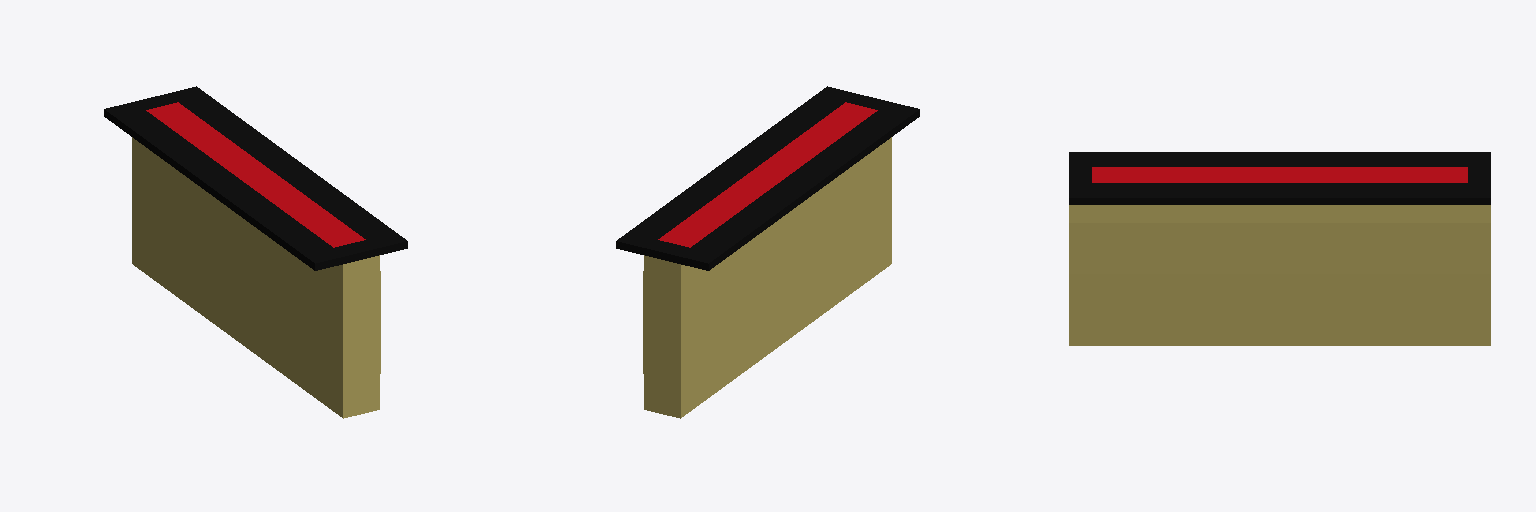
File: simpleLowWall.obj
The picture shows the model from 3 angles: view 1: azimuth 30°, elevation 25°; view 2: azimuth 150°, elevation 25°; view 3: azimuth 270°, elevation 25°; orthographic projection.
Visible parts, largest first — view 1: LowWall1_Cube.002; view 2: LowWall1_Cube.002; view 3: LowWall1_Cube.002.
Boxes of the visible parts, x1,y1,x2,y2 form: LowWall1_Cube.002: [104, 86, 407, 418]; LowWall1_Cube.002: [616, 86, 919, 418]; LowWall1_Cube.002: [1069, 152, 1490, 345].
Size of the model in its own units: 0.2534 by 0.4229 by 1.